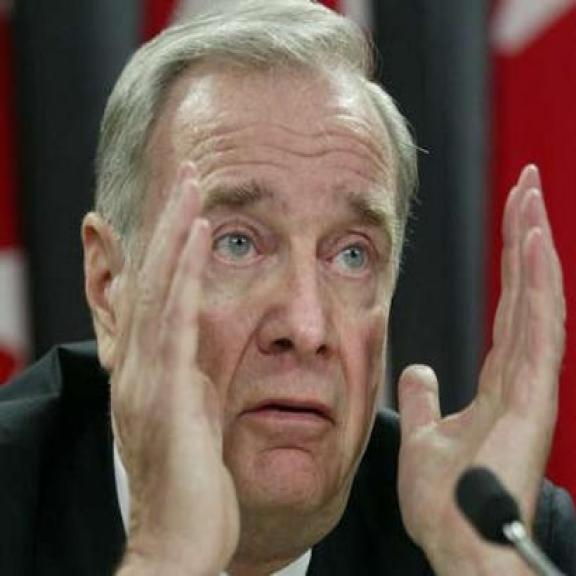face: (81, 57, 406, 543)
